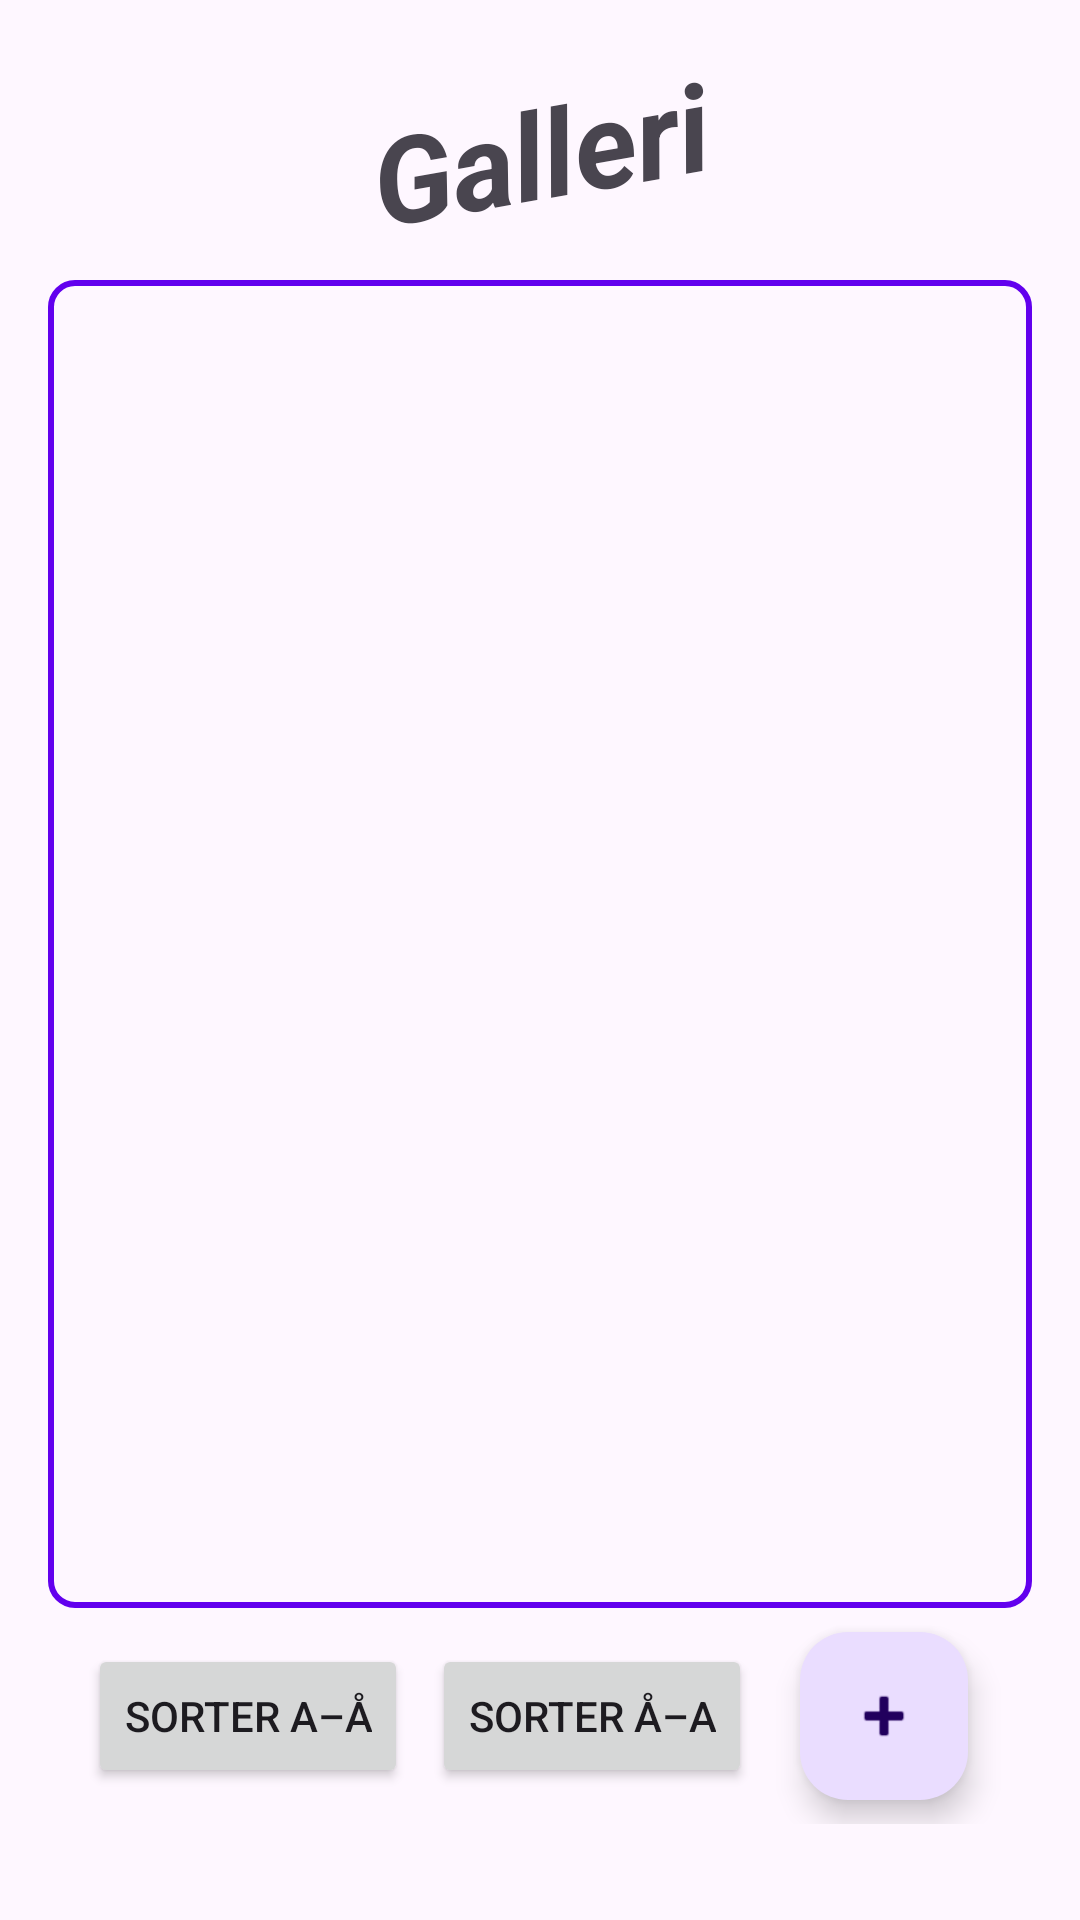

Icon click points for this 1080px×1920px phone screenshot, format point (x, y):
Legg til oppføring: point (884, 1716)
